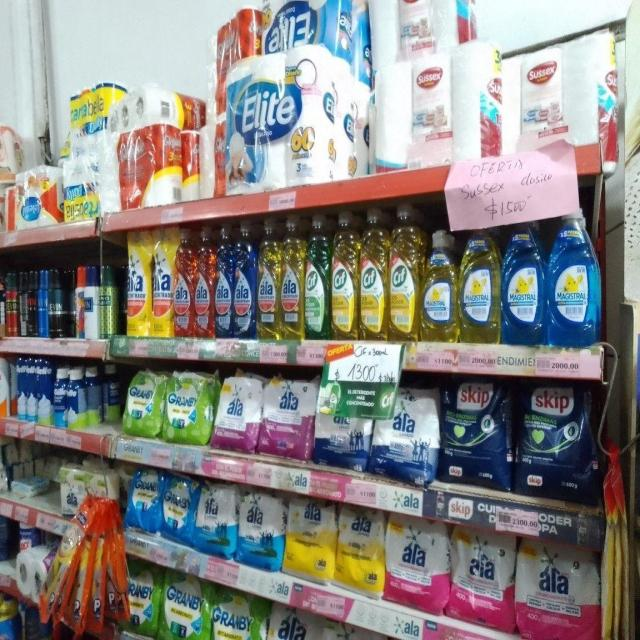ala_conc_amarillo: (281, 215, 304, 340), (257, 218, 280, 340)
ala_conc_azul: (234, 220, 256, 340), (214, 223, 233, 339)
ala_conc_rojo: (194, 225, 214, 339), (174, 227, 194, 338)
ala_sachet_amarillo: (125, 228, 151, 336), (152, 224, 174, 337)
cif_conc_bot_amarilla: (389, 204, 420, 342), (360, 207, 388, 343), (331, 210, 358, 341)
cif_conc_botella_verde: (304, 212, 330, 340)
magistral_con_amarillo: (459, 226, 500, 344), (422, 228, 458, 342)
magistral_con_azul: (548, 212, 598, 347), (502, 221, 545, 346)
